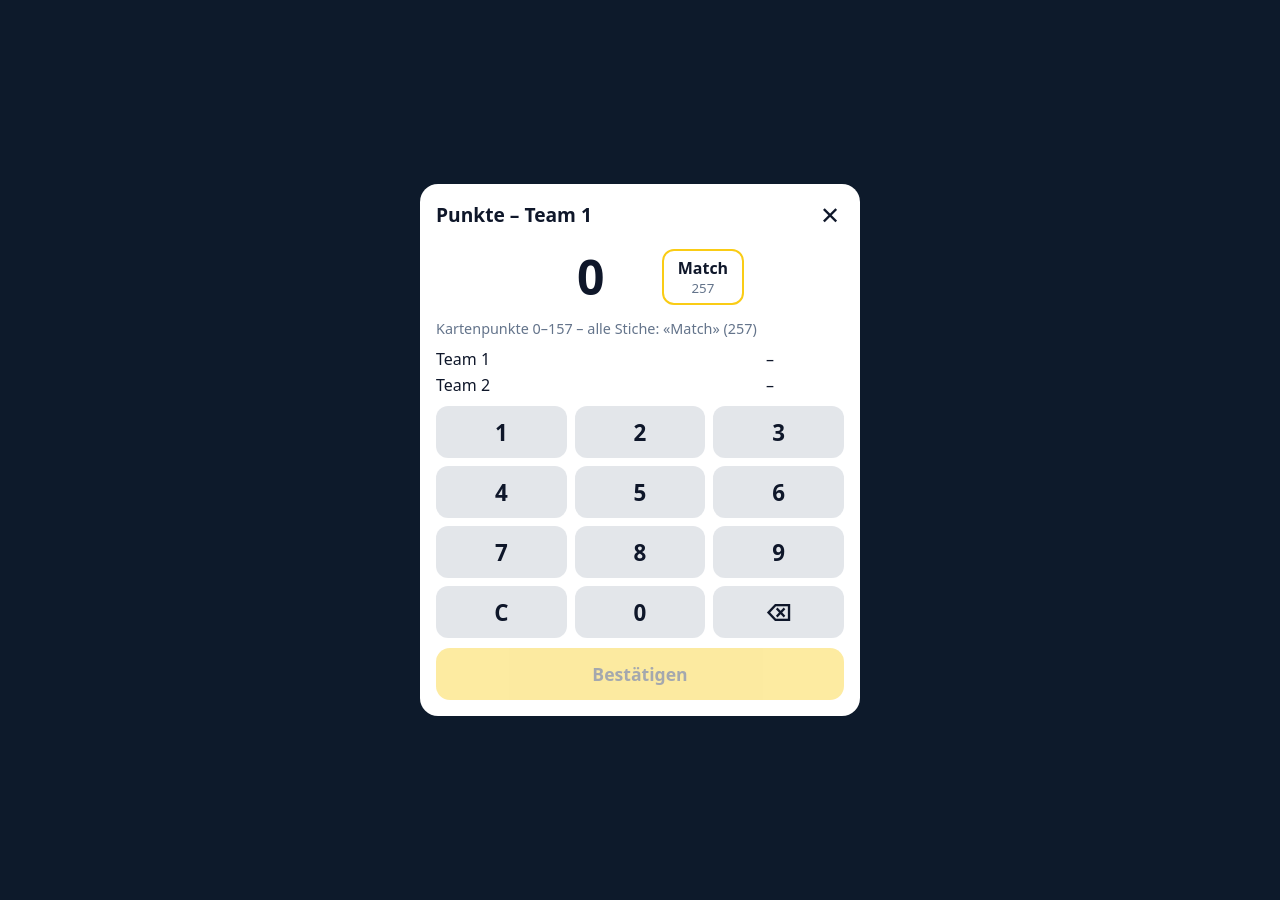
it: PointsDialog › disables confirm for invalid values
Click the button "2" at {"x": 640, "y": 432}, box [575, 406, 705, 458]
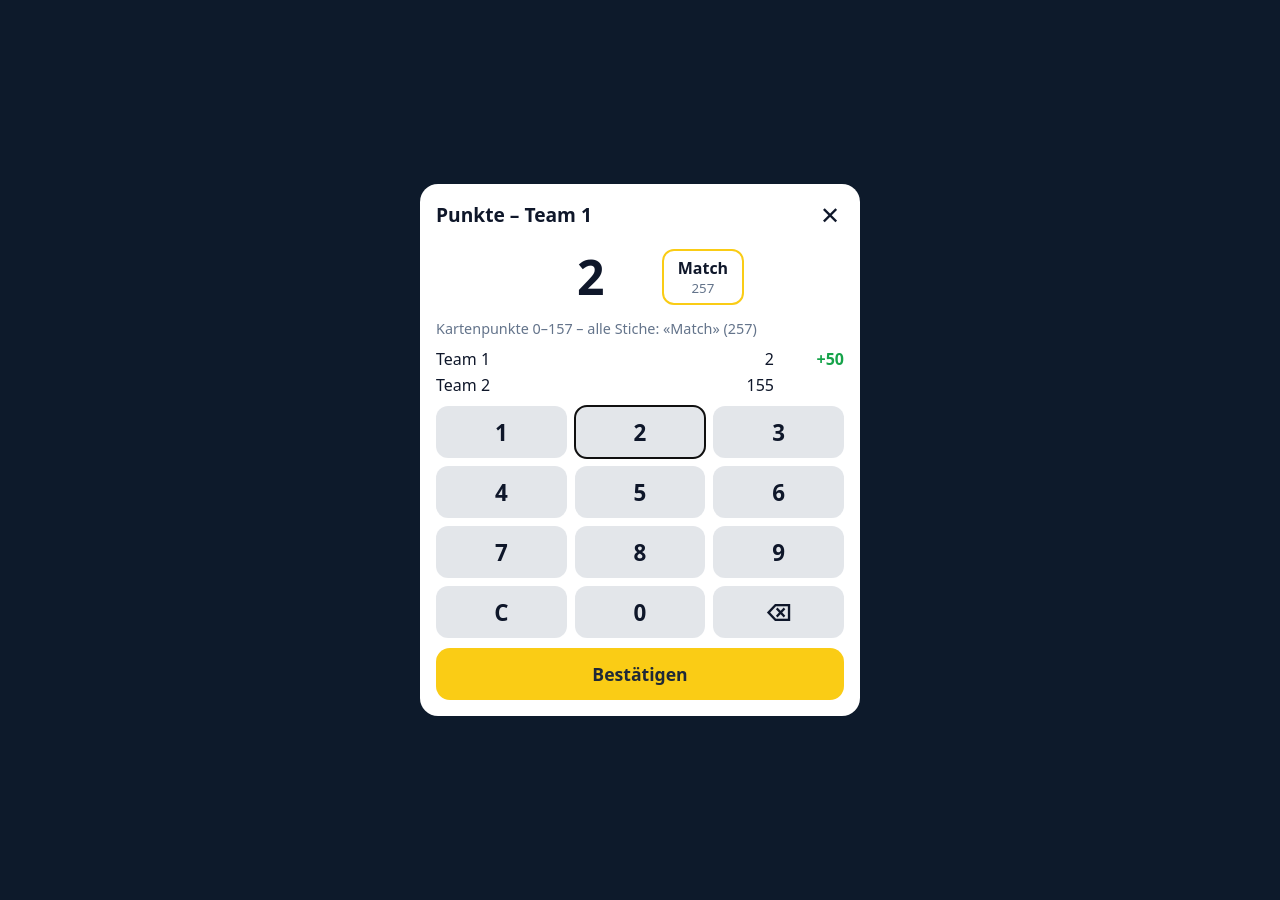
Click the button "0" at {"x": 640, "y": 612}, box [575, 586, 705, 638]
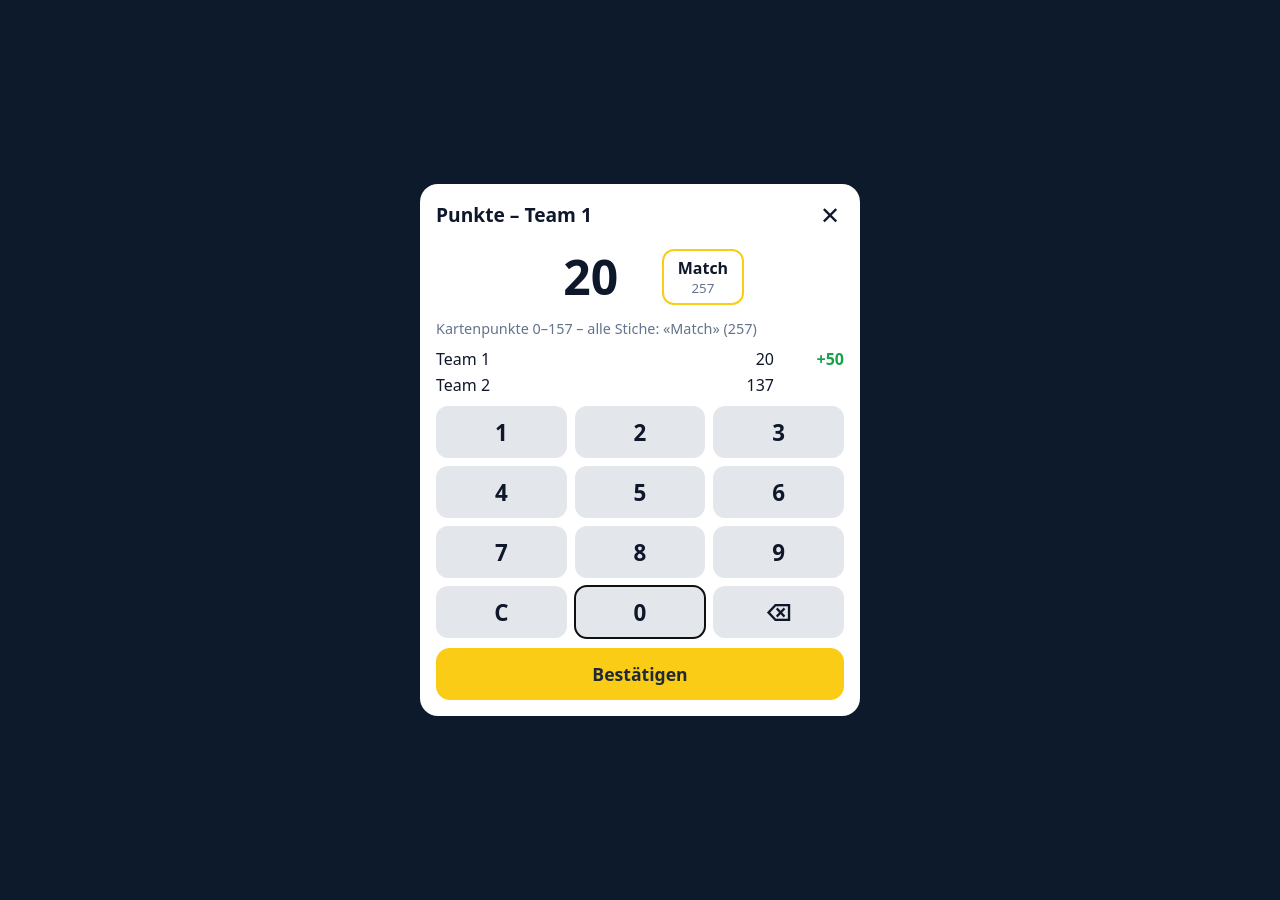
Click the button "0" at {"x": 640, "y": 612}, box [575, 586, 705, 638]
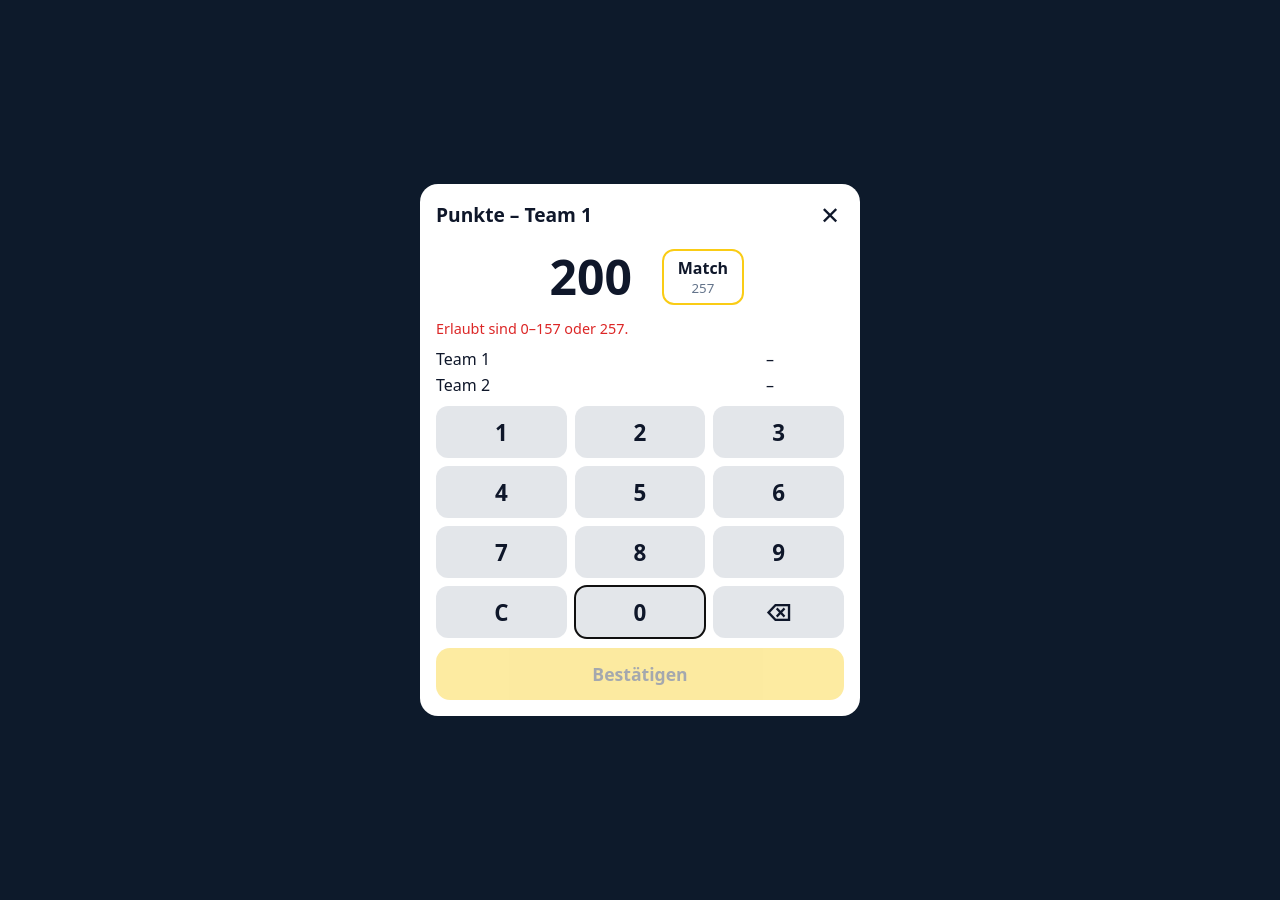
Expected: the button "Bestätigen" is disabled, [436, 648, 844, 700]
Expected: the text "Erlaubt sind 0–157 oder 257." is shown, [436, 319, 628, 338]
